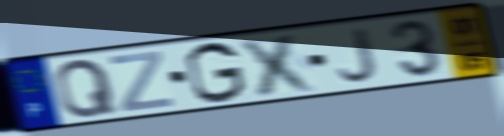3: (390, 17, 441, 79)
G: (183, 40, 249, 106)
J: (336, 25, 380, 85)
Q: (53, 57, 120, 121)
X: (236, 30, 322, 99)
Z: (107, 48, 176, 114)
